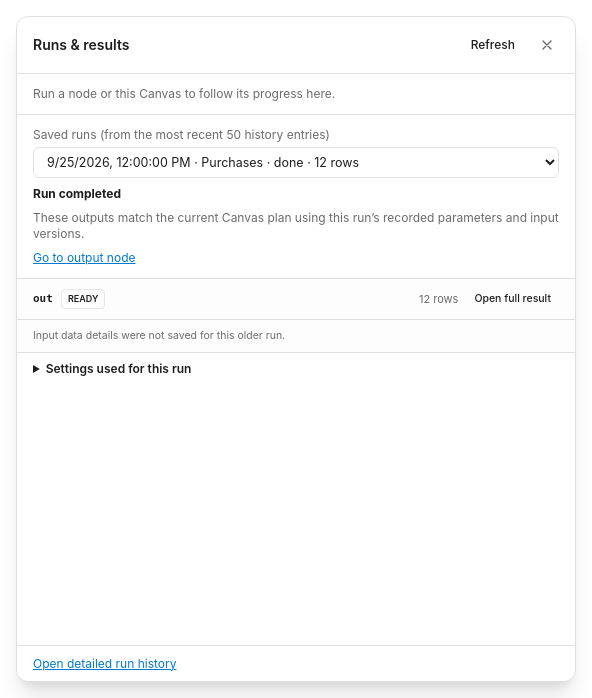
Scenario: Canvas runs and results › uses the server result identity and saved parameters instead of current parameter drafts
Expected: the text "match the current Canvas plan using this run’s recorded" is shown, [33, 210, 559, 241]
Click the heading "Settings used for this run" at (119, 368), box [46, 361, 191, 376]
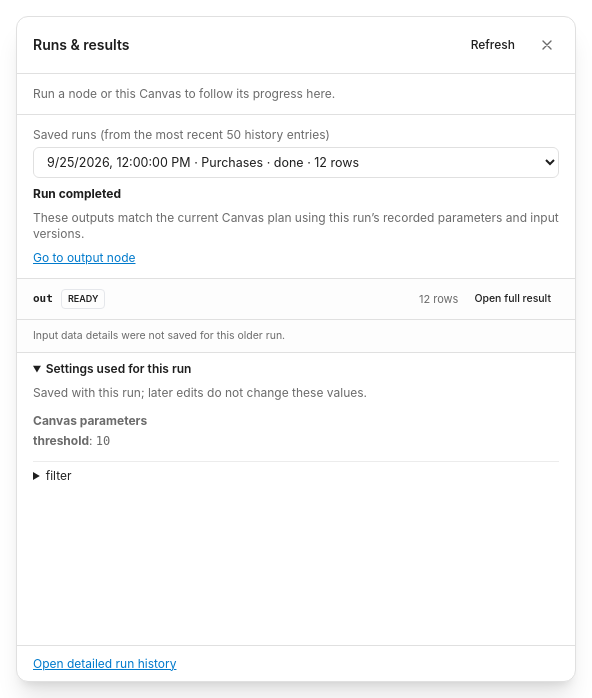
Expected: the text "10" is shown, [96, 434, 110, 448]
Click the heading "filter" at (59, 476), box [46, 468, 72, 483]
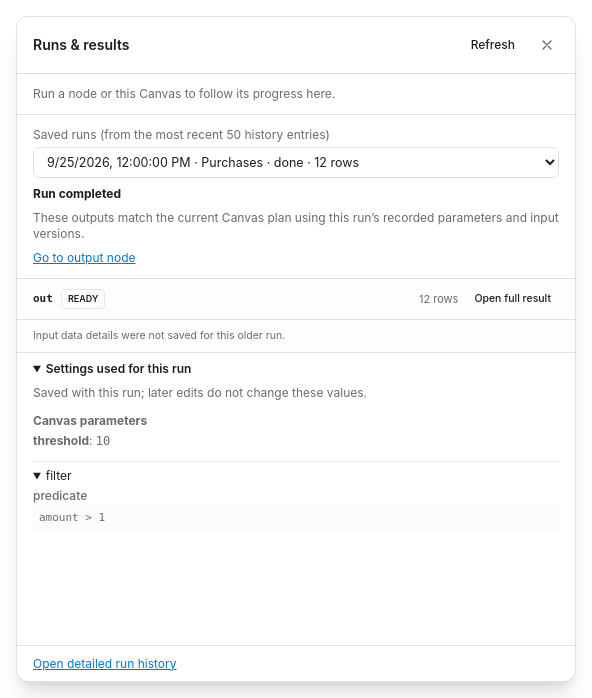
Expected: the text "amount > 1" is shown, [33, 504, 559, 532]
